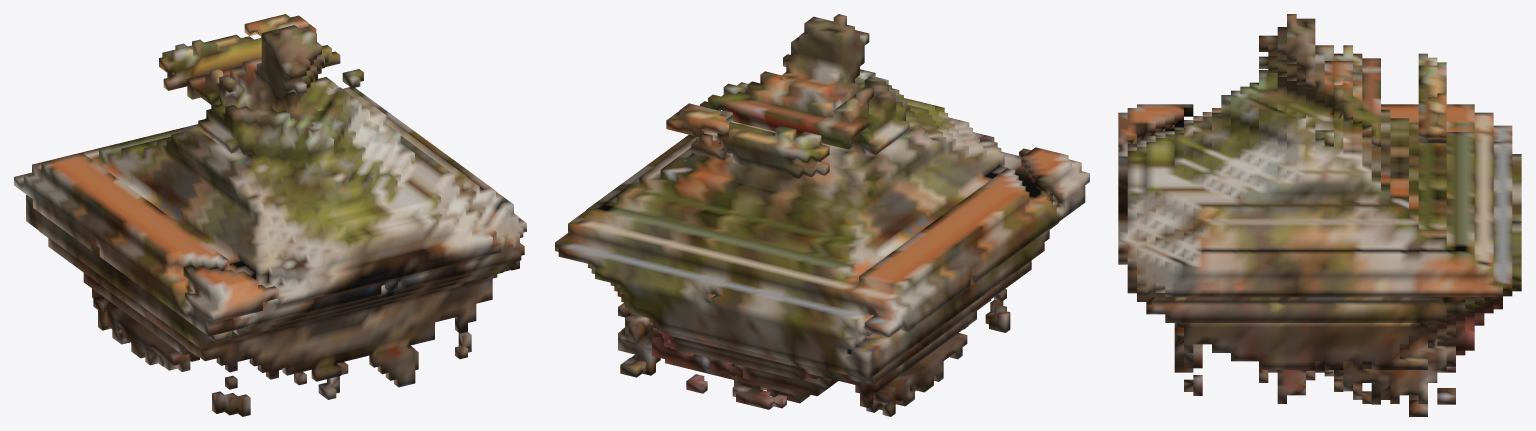
The model's file is sheet4_L8.glb.
The picture shows the model from 3 angles, left to right: view 1: azimuth 30°, elevation 25°; view 2: azimuth 150°, elevation 25°; view 3: azimuth 270°, elevation 25°; orthographic projection.
Parts seen in each view (by area): view 1: BPT_sheet4_L8; view 2: BPT_sheet4_L8; view 3: BPT_sheet4_L8.
Boxes of the visible parts, x1,y1,x2,y2 form: BPT_sheet4_L8: (14,14,526,416); BPT_sheet4_L8: (555,14,1089,416); BPT_sheet4_L8: (1118,14,1521,416).
Bounding box in the file's own units: 2.1 × 2 × 2.21.
